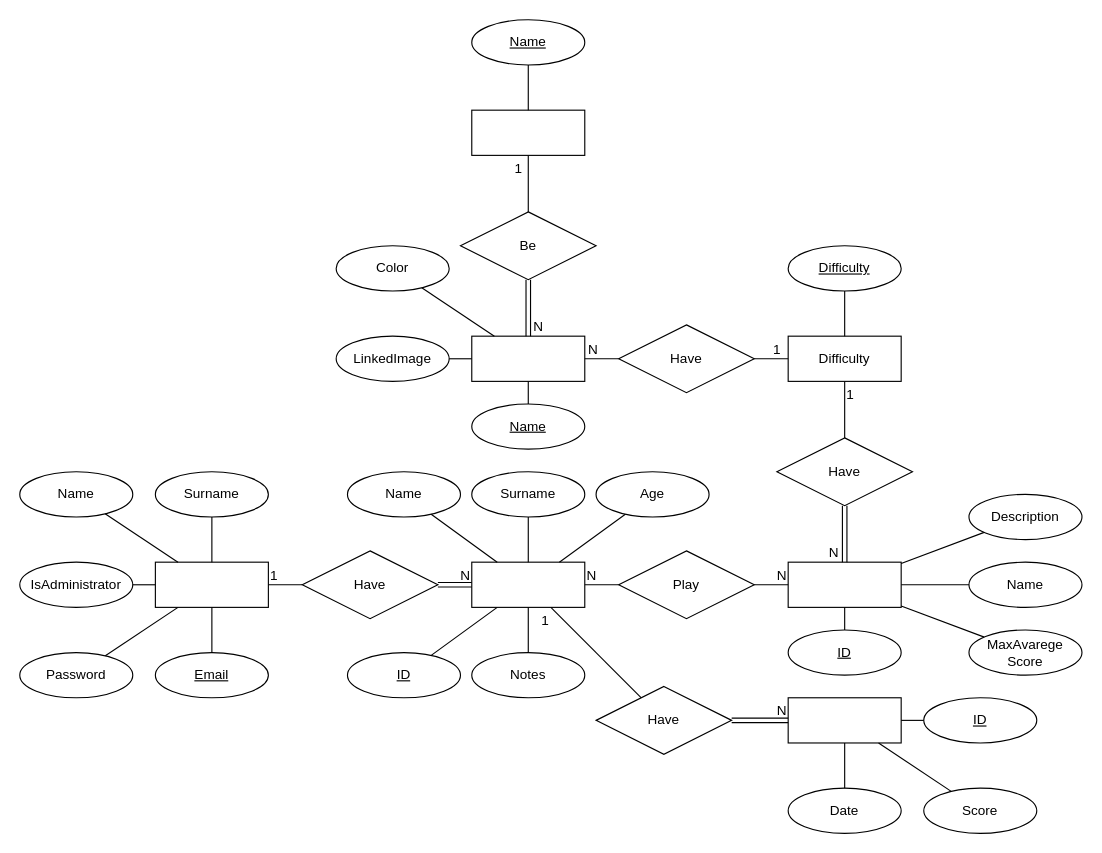
Some shapes in this 1102 by 853 pixel diagram are drawn without their labels. The shapes that lost their labels are listed below. From the top down, each one's centre as x and y in pixels, then its label:
pixel 528 132: Category
pixel 528 358: Content
pixel 211 584: User
pixel 528 584: Patient
pixel 844 584: Activity
pixel 844 720: SessionScore
